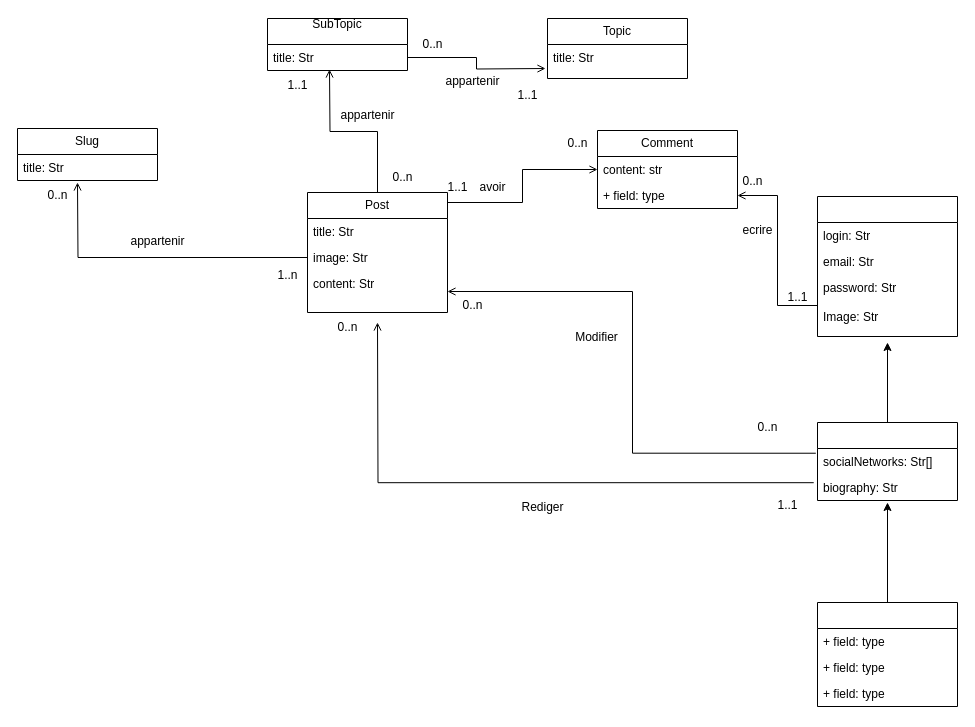
The diagram is 975 pixels wide and 727 high, and some of its shapes have lost their labels. Each missing label, with the box of its shape:
Editor: (816, 422, 958, 500)
Owner: (816, 602, 958, 706)
User: (816, 196, 958, 336)
